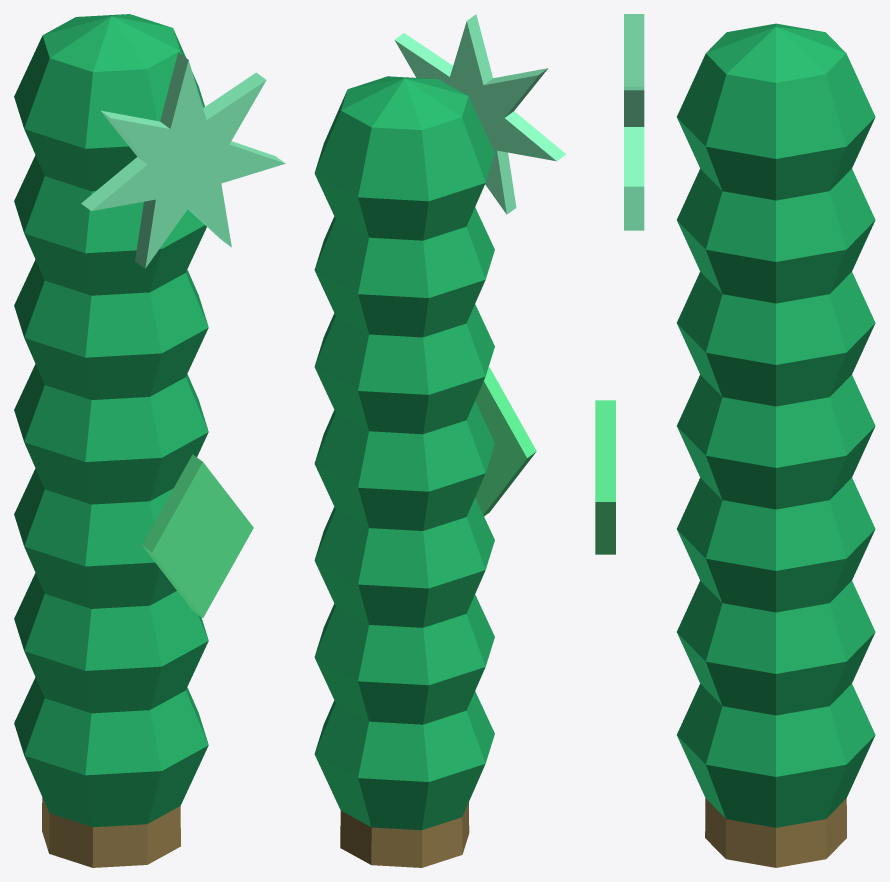
The model's file is seven_pearl_spire.obj.
The picture shows the model from 3 angles, left to right: view 1: azimuth 30°, elevation 25°; view 2: azimuth 150°, elevation 25°; view 3: azimuth 270°, elevation 25°; orthographic projection. The views are drawn at different scales.
Visible parts, largest first — view 1: seven_pearl_06, seven_pearl_00, seven_pearl_04, seven_pearl_03, seven_pearl_01, seven_pearl_02, seven_pearl_05, pearl_spire_glint, pearl_spire_core, seven_pearl_spine, pearl_spire_glint_edge, pearl_spire_core_edge; view 2: seven_pearl_06, seven_pearl_00, seven_pearl_04, seven_pearl_01, seven_pearl_05, seven_pearl_02, seven_pearl_03, pearl_spire_glint, seven_pearl_spine, pearl_spire_glint_edge, pearl_spire_core, pearl_spire_core_edge; view 3: seven_pearl_06, seven_pearl_00, seven_pearl_05, seven_pearl_02, seven_pearl_03, seven_pearl_04, seven_pearl_01, seven_pearl_spine, pearl_spire_glint_edge, pearl_spire_core_edge.
Boxes of the visible parts, bbox=[...] form: seven_pearl_06: bbox=[14, 14, 204, 191]; seven_pearl_00: bbox=[14, 677, 208, 827]; seven_pearl_04: bbox=[14, 259, 208, 399]; seven_pearl_03: bbox=[14, 364, 208, 504]; seven_pearl_01: bbox=[14, 573, 208, 713]; seven_pearl_02: bbox=[14, 468, 176, 608]; seven_pearl_05: bbox=[14, 155, 206, 295]; pearl_spire_glint: bbox=[92, 60, 285, 268]; pearl_spire_core: bbox=[152, 462, 253, 617]; seven_pearl_spine: bbox=[42, 797, 180, 867]; pearl_spire_glint_edge: bbox=[81, 52, 285, 268]; pearl_spire_core_edge: bbox=[142, 454, 202, 617]; seven_pearl_06: bbox=[314, 76, 494, 240]; seven_pearl_00: bbox=[314, 691, 494, 830]; seven_pearl_04: bbox=[314, 304, 494, 434]; seven_pearl_01: bbox=[314, 594, 494, 724]; seven_pearl_05: bbox=[314, 207, 494, 337]; seven_pearl_02: bbox=[314, 497, 494, 627]; seven_pearl_03: bbox=[314, 401, 494, 530]; pearl_spire_glint: bbox=[394, 21, 556, 213]; seven_pearl_spine: bbox=[340, 802, 469, 867]; pearl_spire_glint_edge: bbox=[394, 14, 566, 214]; pearl_spire_core: bbox=[475, 381, 526, 514]; pearl_spire_core_edge: bbox=[483, 367, 536, 516]; seven_pearl_06: bbox=[677, 23, 875, 200]; seven_pearl_00: bbox=[677, 683, 875, 827]; seven_pearl_05: bbox=[677, 168, 875, 303]; seven_pearl_02: bbox=[677, 477, 875, 612]; seven_pearl_03: bbox=[677, 374, 875, 509]; seven_pearl_04: bbox=[677, 271, 875, 406]; seven_pearl_01: bbox=[677, 580, 875, 715]; seven_pearl_spine: bbox=[705, 798, 846, 867]; pearl_spire_glint_edge: bbox=[624, 14, 644, 230]; pearl_spire_core_edge: bbox=[595, 400, 615, 554].
Bounding box in the file's own units: 0.156 × 0.64 × 0.1972.
